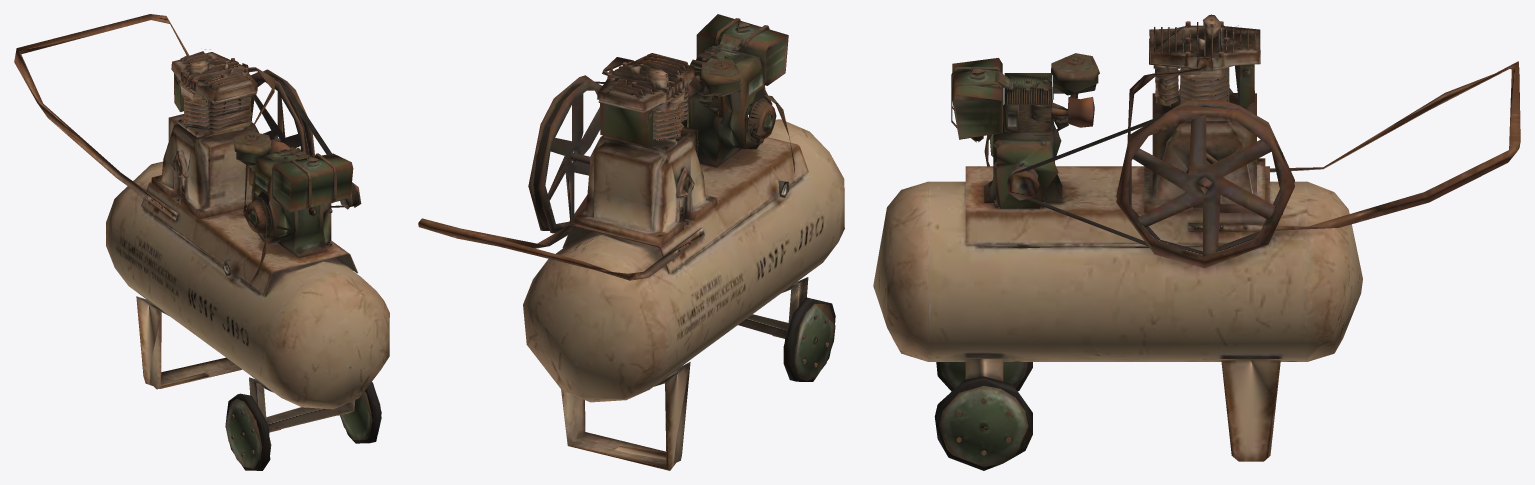
The model's file is scene-compressor.glb.
3 views of the same model, side by side, from view 1: azimuth 30°, elevation 25°; view 2: azimuth 150°, elevation 25°; view 3: azimuth 270°, elevation 25° (orthographic). The views are drawn at different scales.
Parts seen in each view (by area): view 1: old_military_compressor; view 2: old_military_compressor; view 3: old_military_compressor.
Boxes of the visible parts, box(x1,y1,x2,y2) form: old_military_compressor: box(14, 14, 389, 470); old_military_compressor: box(418, 14, 844, 470); old_military_compressor: box(873, 14, 1520, 470).
Bounding box in the file's own units: 0.5856 × 1.17 × 1.67.
Materials: 2 (2 with a texture image).
